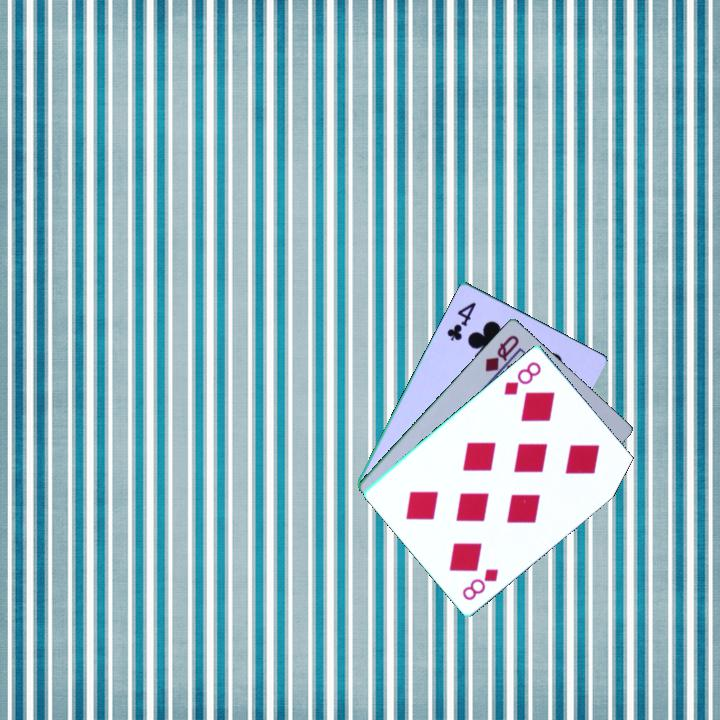4c: (443, 298, 479, 344)
8d: (500, 358, 544, 398), (459, 564, 501, 603)
Qd: (481, 331, 523, 381)
